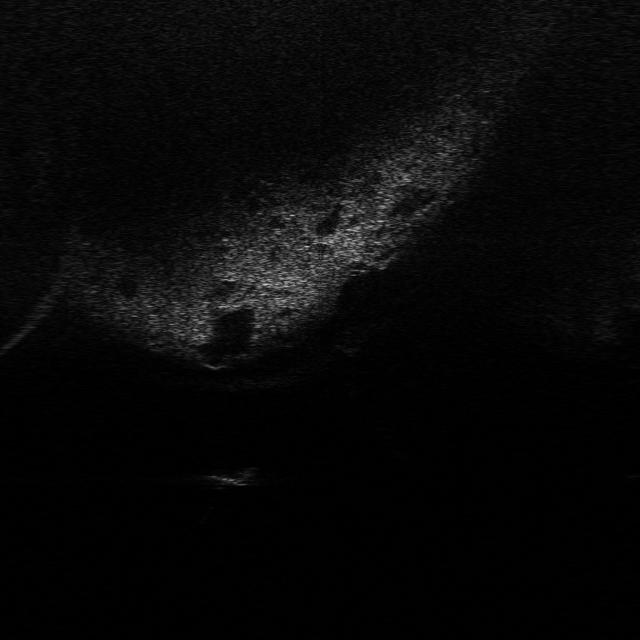ball: (328, 324, 373, 354)
cube: (199, 461, 262, 488)
